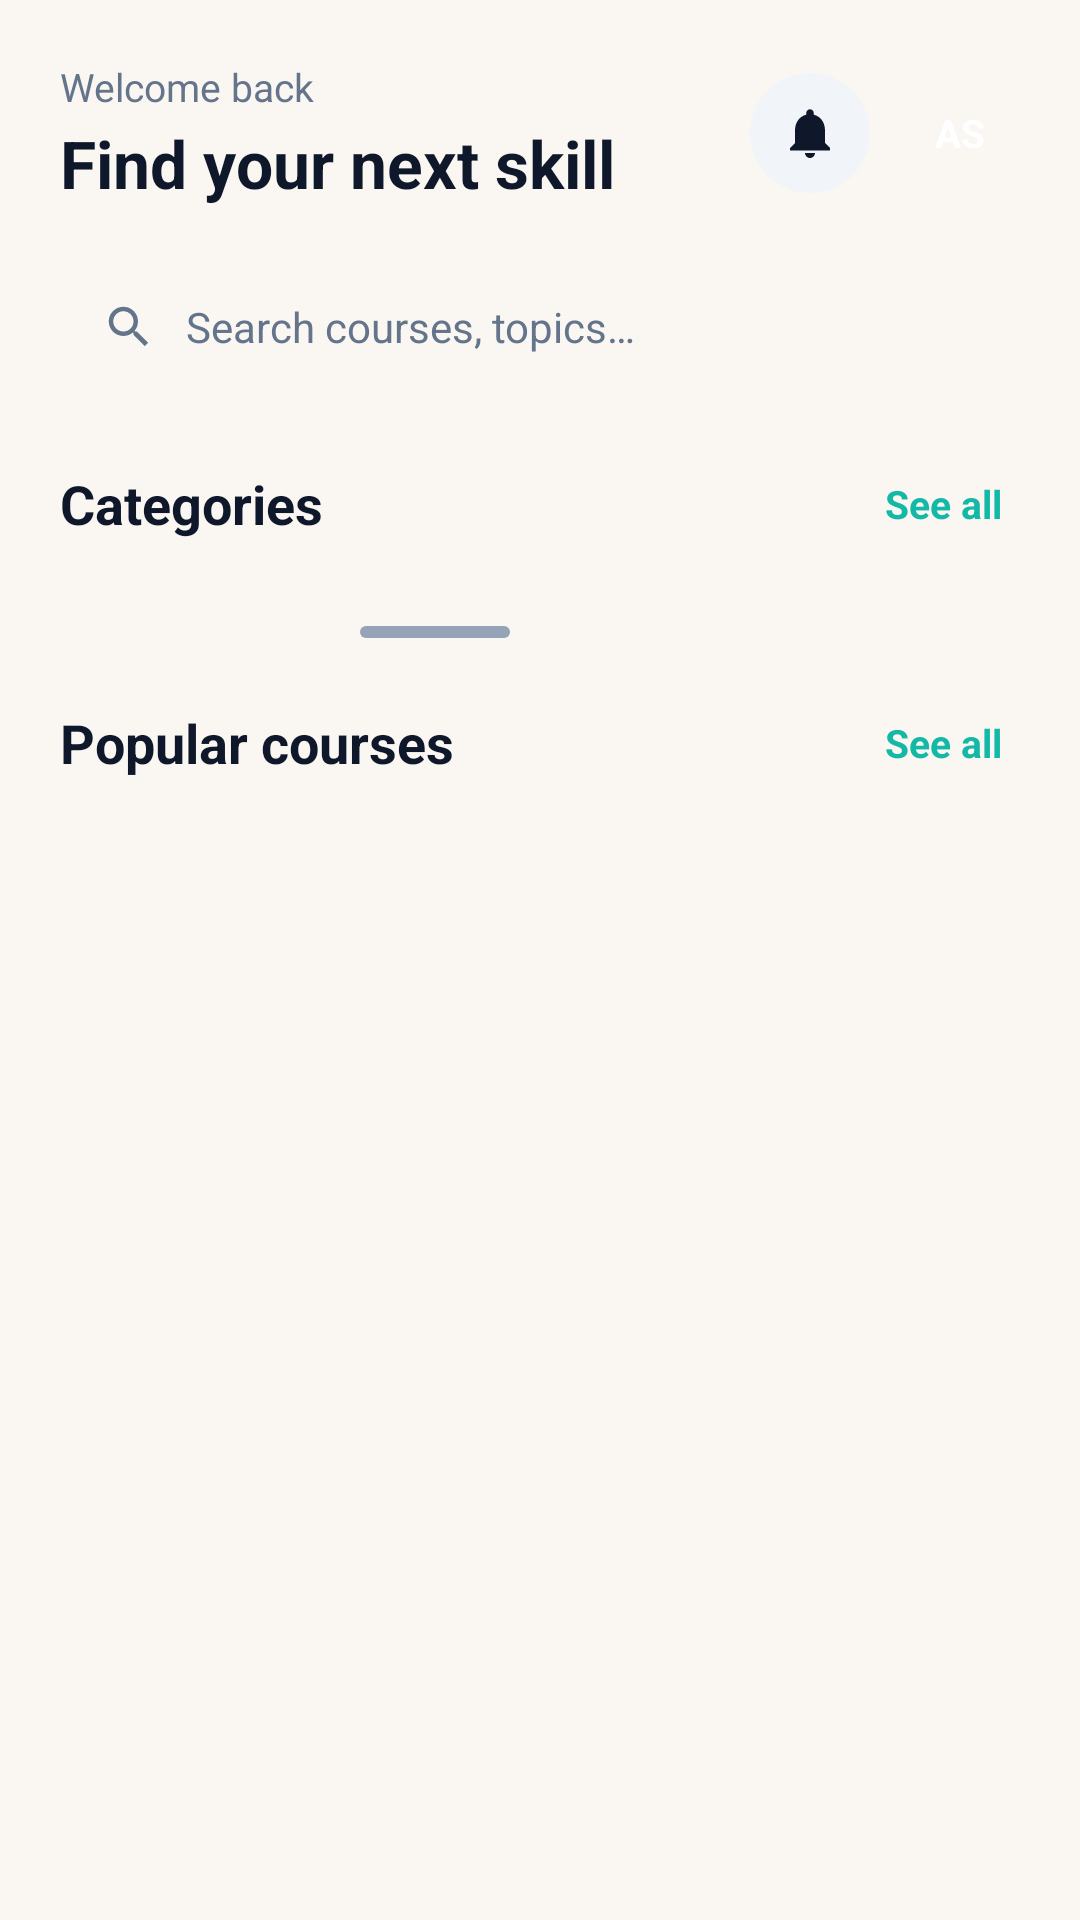

Where to tap for icons on this 1080x1920 app screen, as (x=x, y=y):
Notifications: (x=810, y=133)
